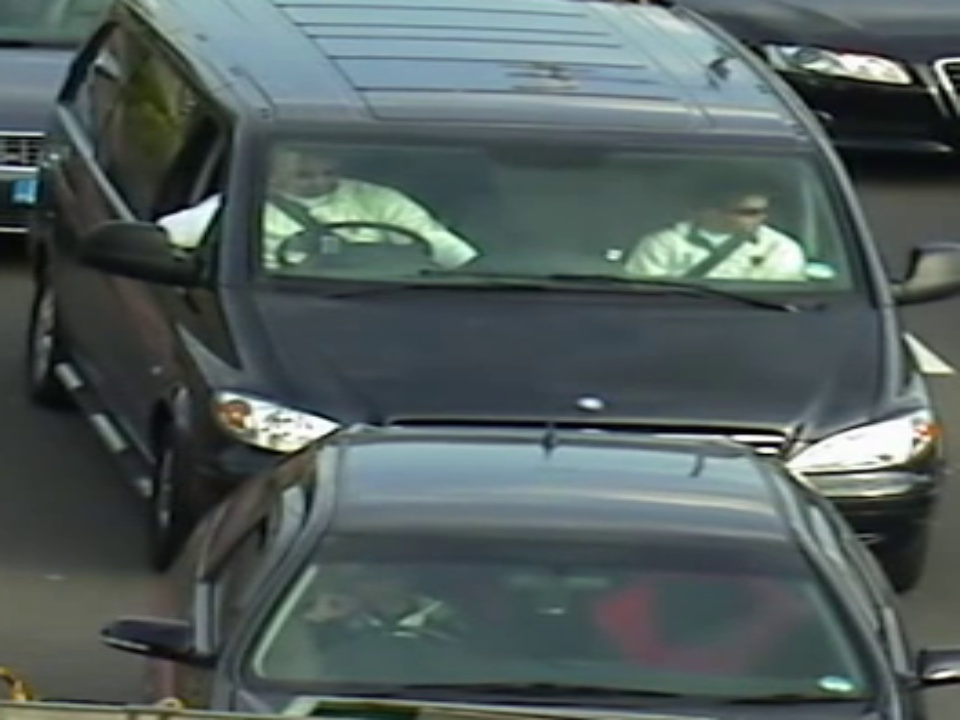TWO: (262, 128, 841, 297)
